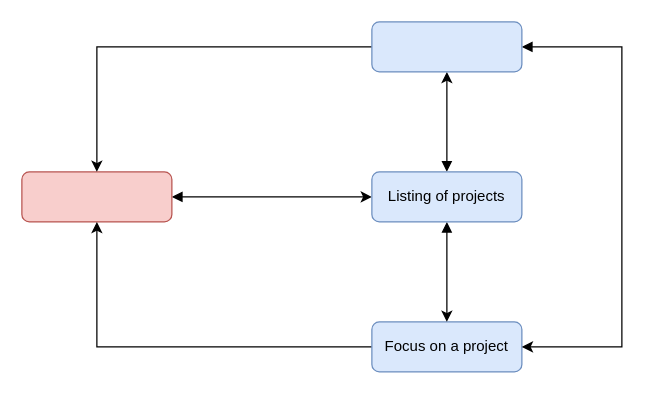
Some shapes in this 655 by 394 pixel diagram are drawn without their labels. Here are the shapes that lost their labels. From the top down, the centre of each, then its label:
At (x=446, y=46): "Menu".
At (x=96, y=196): "HOME".
